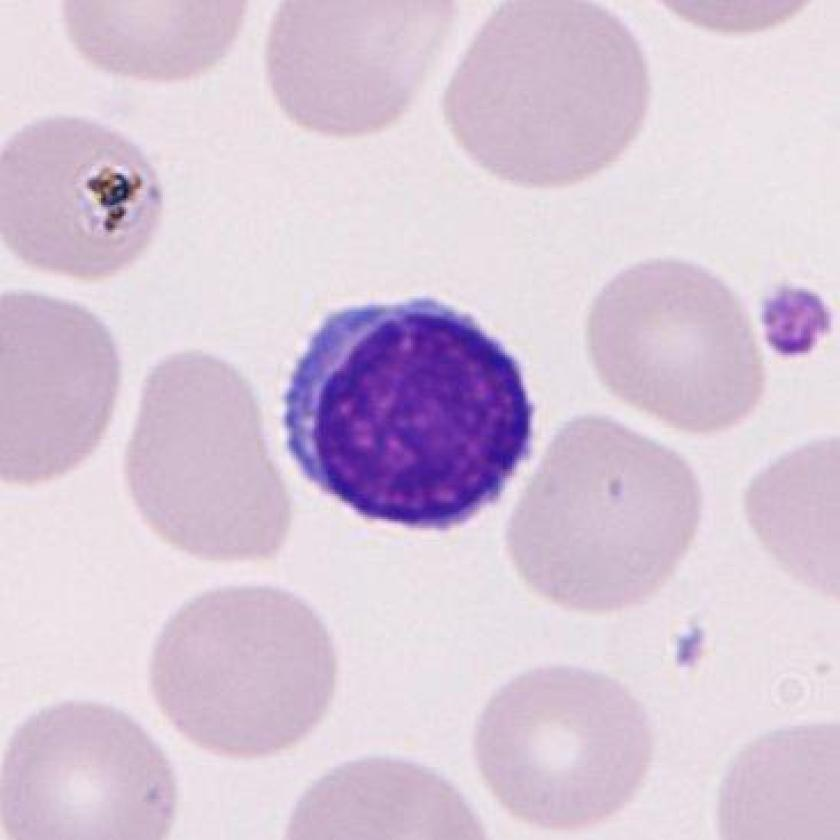lymphocyte: (265, 283, 549, 552)
